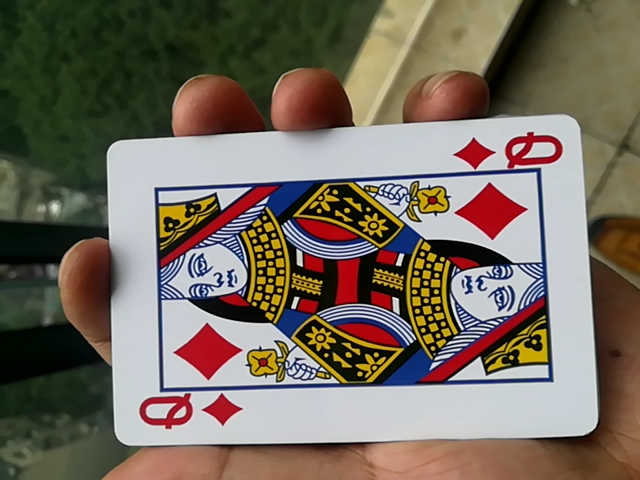fk q: (90, 117, 590, 453)
